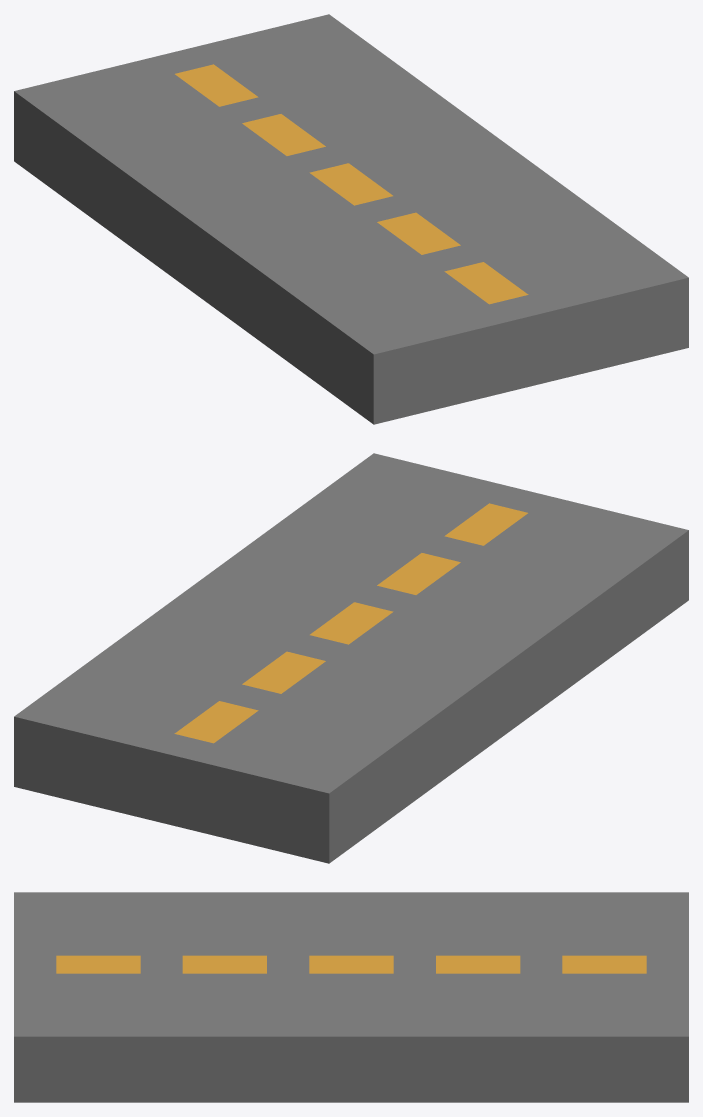
Rendered from line_loads.fbx.
3 renders of one model, top to bottom at view 1: azimuth 30°, elevation 25°; view 2: azimuth 150°, elevation 25°; view 3: azimuth 270°, elevation 25°, orthographic. The views are drawn at different scales.
Parts seen in each view (by area): view 1: Cube; view 2: Cube; view 3: Cube.
Part boxes in pixels (x1,y1,x2,y2): Cube: [14, 14, 688, 424]; Cube: [14, 453, 688, 863]; Cube: [14, 892, 688, 1102].
Size of the model in its own units: 939 by 200 by 1858.
